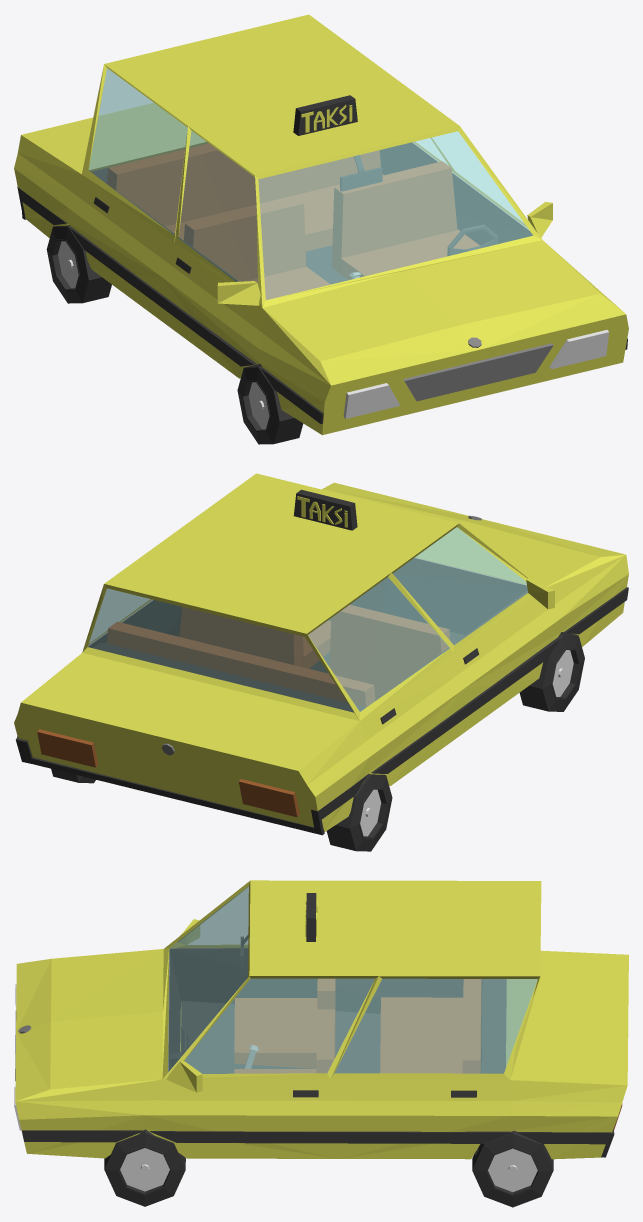
File: taxi.fbx
3 renders of one model, top to bottom at view 1: azimuth 30°, elevation 25°; view 2: azimuth 150°, elevation 25°; view 3: azimuth 270°, elevation 25°, orthographic. The views are drawn at different scales.
Visible parts, largest first — view 1: Taxi; view 2: Taxi; view 3: Taxi.
Part boxes in pixels (x1,y1,x2,y2): Taxi: [14, 14, 628, 444]; Taxi: [14, 473, 628, 851]; Taxi: [14, 880, 628, 1207].
Size of the model in its own units: 26.06 by 17.8 by 43.09.
